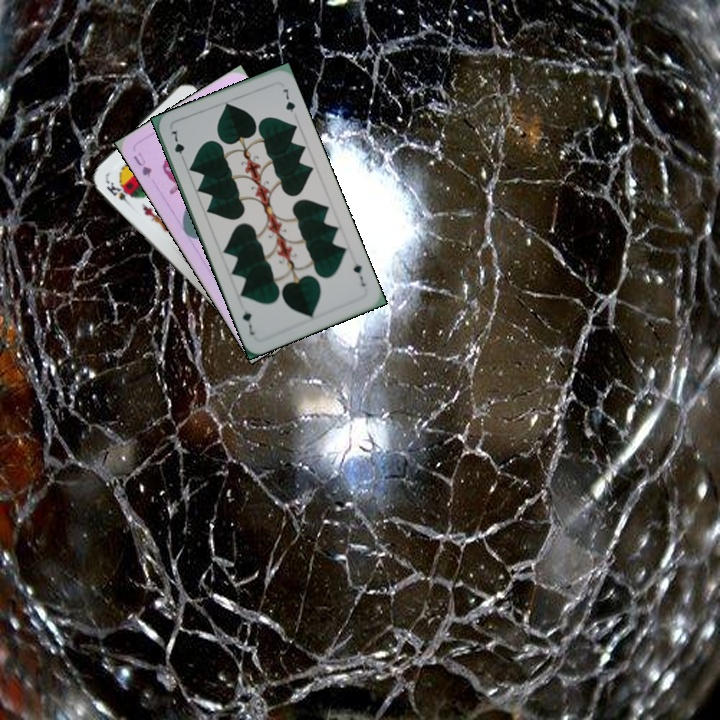G7: (166, 126, 188, 165), (349, 255, 368, 289)
GU: (129, 148, 154, 180)
SK: (102, 176, 134, 209)
